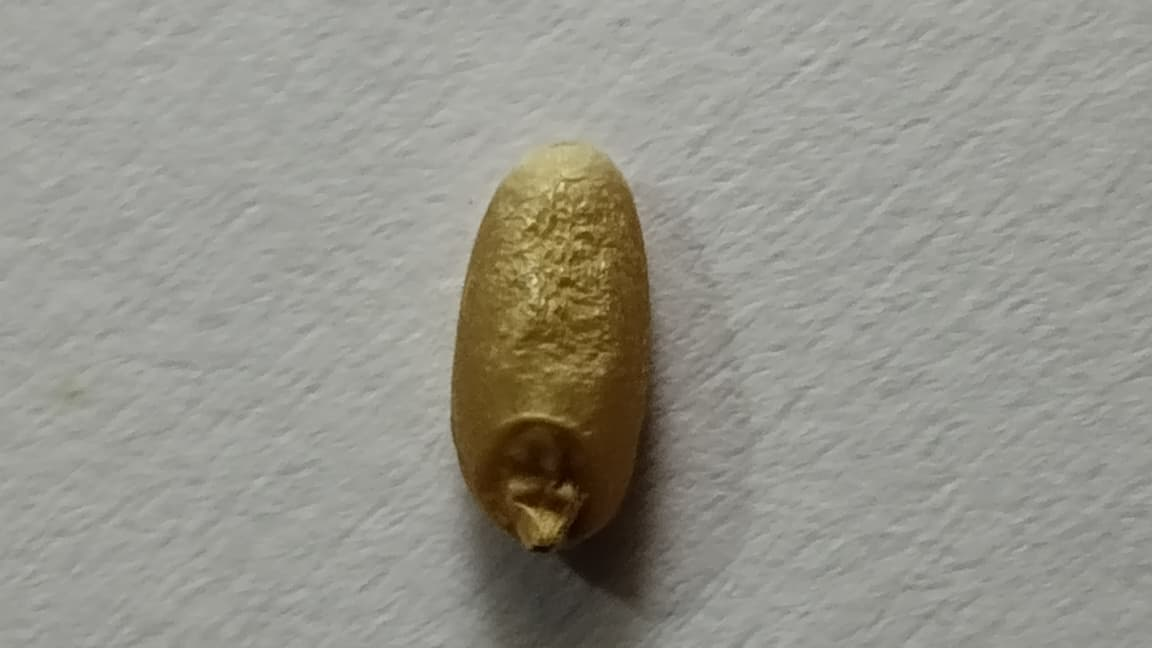healthy: (451, 139, 655, 550)
